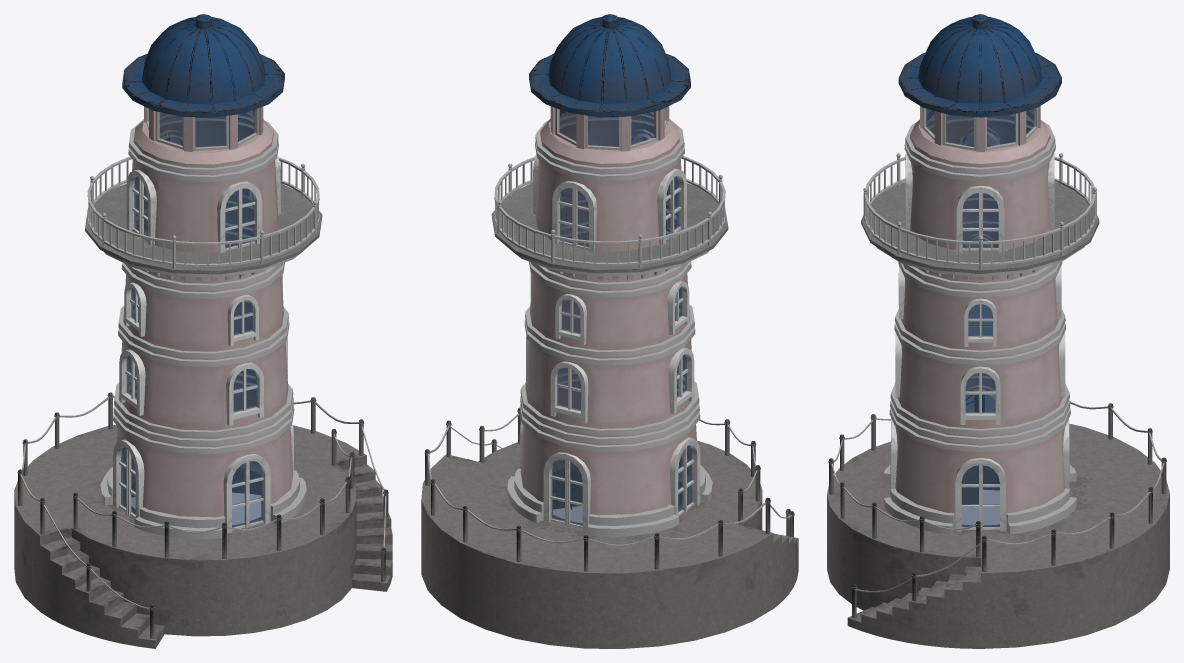
The model's file is scene_baked.gltf.
The picture shows the model from 3 angles, left to right: view 1: azimuth 30°, elevation 25°; view 2: azimuth 150°, elevation 25°; view 3: azimuth 270°, elevation 25°; orthographic projection.
Visible parts, largest first — view 1: house_LOW, stair_LOW, polySurface159, polySurface135, polySurface178, polySurface1; view 2: house_LOW, stair_LOW, polySurface159, polySurface135, polySurface1, polySurface178; view 3: house_LOW, stair_LOW, polySurface159, polySurface135, polySurface1, polySurface178.
Boxes of the visible parts, x1,y1,x2,y2 form: house_LOW: [85, 14, 322, 539]; stair_LOW: [14, 424, 392, 648]; polySurface159: [113, 107, 293, 533]; polySurface135: [121, 110, 262, 527]; polySurface178: [17, 392, 388, 638]; polySurface1: [87, 156, 319, 268]; house_LOW: [491, 14, 728, 536]; stair_LOW: [421, 440, 798, 648]; polySurface159: [519, 107, 700, 531]; polySurface135: [551, 109, 692, 525]; polySurface1: [494, 156, 725, 267]; polySurface178: [424, 408, 794, 571]; house_LOW: [861, 14, 1099, 534]; stair_LOW: [827, 423, 1169, 648]; polySurface159: [891, 107, 1069, 531]; polySurface135: [926, 108, 1033, 527]; polySurface1: [863, 145, 1097, 269]; polySurface178: [828, 395, 1166, 618].
Bounding box in the file's own units: 24.61 × 39.99 × 22.39.
Materials: 2 (2 with a texture image).
